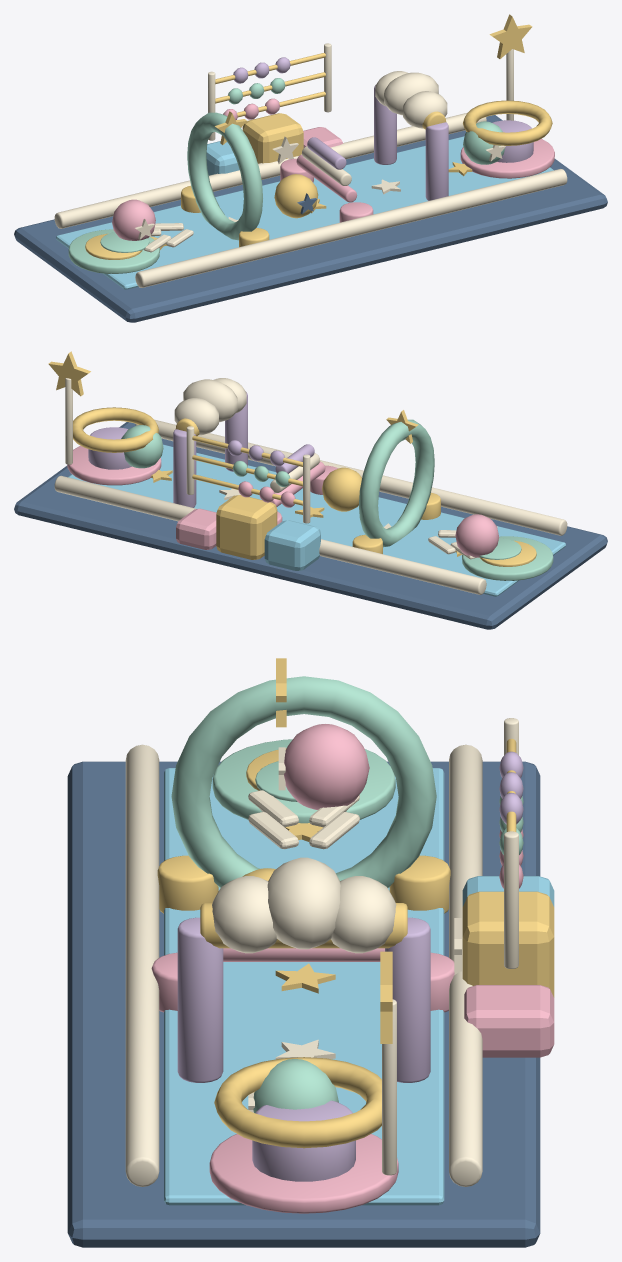
The model's file is MoonPlayArena.fbx.
3 views of the same model, one above another, from view 1: azimuth 30°, elevation 25°; view 2: azimuth 150°, elevation 25°; view 3: azimuth 270°, elevation 25° (orthographic). The views are drawn at different scales.
Visible parts, largest first — view 1: MoonPlayArena_Play_Midnight, MoonPlayArena_Play_Cream, MoonPlayArena_Play_Sky, MoonPlayArena_Play_Gold, MoonPlayArena_Play_Mint, MoonPlayArena_Play_Blush, MoonPlayArena_Play_Lavender; view 2: MoonPlayArena_Play_Midnight, MoonPlayArena_Play_Cream, MoonPlayArena_Play_Sky, MoonPlayArena_Play_Gold, MoonPlayArena_Play_Mint, MoonPlayArena_Play_Blush, MoonPlayArena_Play_Lavender; view 3: MoonPlayArena_Play_Midnight, MoonPlayArena_Play_Cream, MoonPlayArena_Play_Sky, MoonPlayArena_Play_Mint, MoonPlayArena_Play_Gold, MoonPlayArena_Play_Blush, MoonPlayArena_Play_Lavender.
Boxes of the visible parts, x1=… form: MoonPlayArena_Play_Midnight: x1=14, y1=115, x2=607, y2=322; MoonPlayArena_Play_Cream: x1=54, y1=43, x2=567, y2=287; MoonPlayArena_Play_Sky: x1=56, y1=136, x2=553, y2=289; MoonPlayArena_Play_Gold: x1=85, y1=14, x2=552, y2=259; MoonPlayArena_Play_Mint: x1=68, y1=78, x2=505, y2=273; MoonPlayArena_Play_Blush: x1=112, y1=98, x2=554, y2=240; MoonPlayArena_Play_Lavender: x1=233, y1=57, x2=533, y2=200; MoonPlayArena_Play_Midnight: x1=14, y1=422, x2=607, y2=629; MoonPlayArena_Play_Cream: x1=54, y1=378, x2=567, y2=594; MoonPlayArena_Play_Sky: x1=68, y1=444, x2=565, y2=596; MoonPlayArena_Play_Gold: x1=48, y1=351, x2=536, y2=566; MoonPlayArena_Play_Mint: x1=121, y1=419, x2=553, y2=580; MoonPlayArena_Play_Blush: x1=67, y1=445, x2=499, y2=557; MoonPlayArena_Play_Lavender: x1=88, y1=392, x2=314, y2=507; MoonPlayArena_Play_Midnight: x1=67, y1=761, x2=540, y2=1247; MoonPlayArena_Play_Cream: x1=125, y1=718, x2=518, y2=1186; MoonPlayArena_Play_Sky: x1=164, y1=768, x2=554, y2=1205; MoonPlayArena_Play_Mint: x1=171, y1=676, x2=523, y2=1112; MoonPlayArena_Play_Gold: x1=157, y1=658, x2=554, y2=1148; MoonPlayArena_Play_Blush: x1=151, y1=724, x2=554, y2=1213; MoonPlayArena_Play_Lavender: x1=177, y1=751, x2=523, y2=1181.
Bounding box in the file's own units: 3.65 × 1.02 × 1.6.
